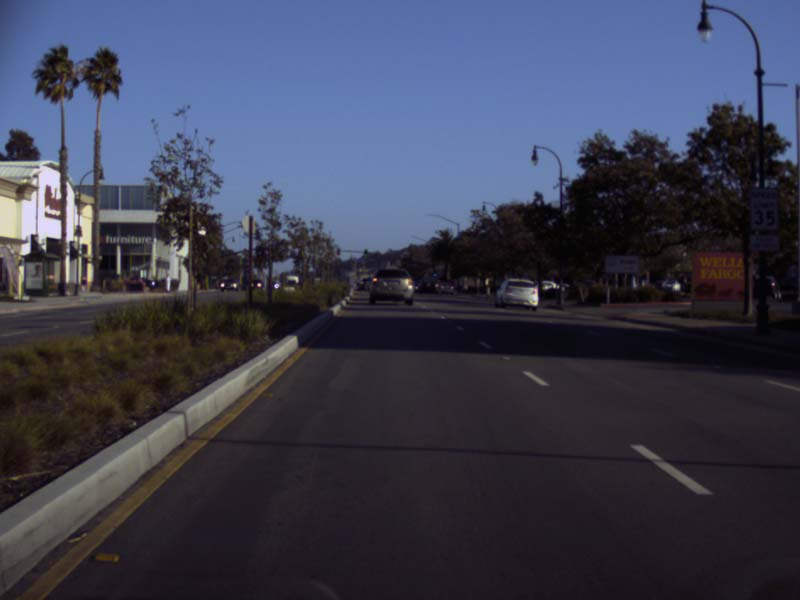Green: (432, 269, 436, 276), (402, 258, 405, 266)
